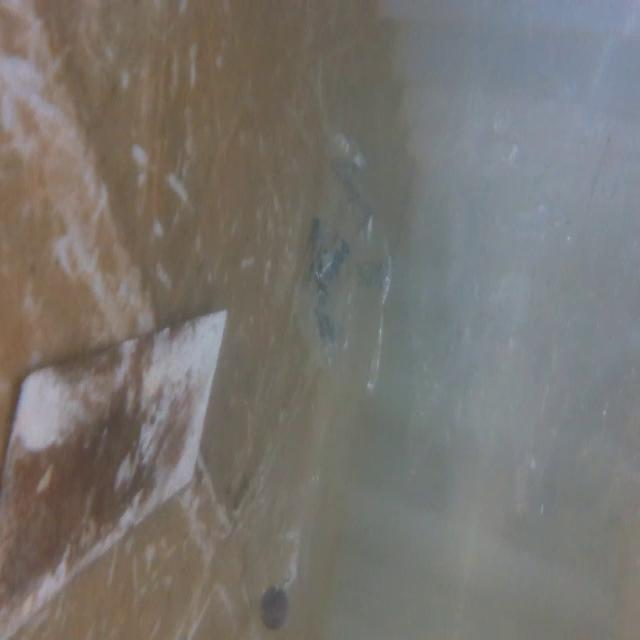plastic bags: (286, 121, 397, 404)
